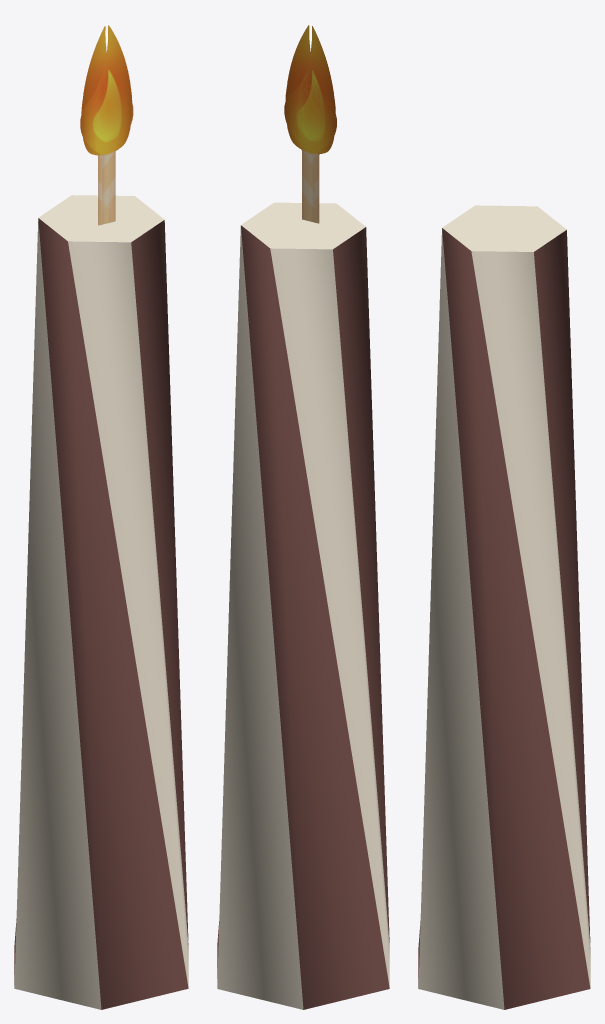
File: Candle_B_02.FBX
The picture shows the model from 3 angles, left to right: view 1: azimuth 30°, elevation 25°; view 2: azimuth 150°, elevation 25°; view 3: azimuth 270°, elevation 25°; orthographic projection.
Parts seen in each view (by area): view 1: Candle; view 2: Candle; view 3: Candle.
Boxes of the visible parts, left/top/right/bottom form: Candle: left=14, top=25, right=188, bottom=1009; Candle: left=217, top=25, right=389, bottom=1009; Candle: left=418, top=205, right=590, bottom=1009.
Size of the model in its own units: 7.85 by 40.96 by 6.8.
